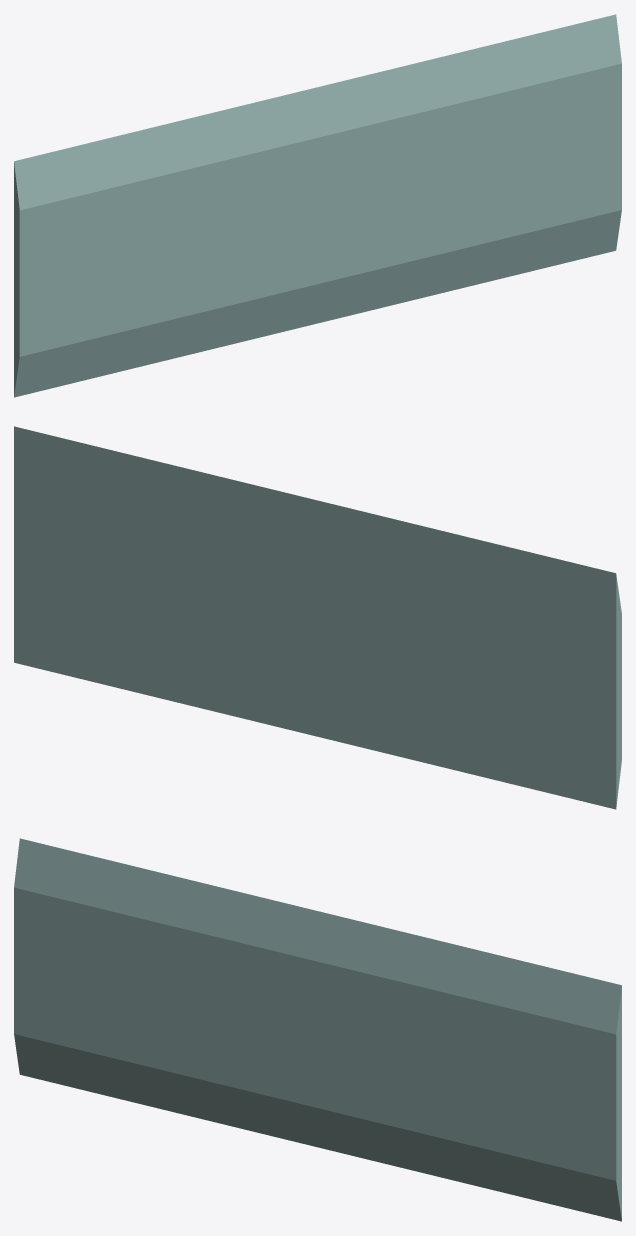
File: BTrimCorner.fbx
3 renders of one model, top to bottom at view 1: azimuth 30°, elevation 25°; view 2: azimuth 150°, elevation 25°; view 3: azimuth 330°, elevation 25°, orthographic.
Parts seen in each view (by area): view 1: BTrimCorner; view 2: BTrimCorner; view 3: BTrimCorner.
Boxes of the visible parts, bbox=[...] form: BTrimCorner: bbox=[14, 14, 621, 397]; BTrimCorner: bbox=[14, 426, 621, 809]; BTrimCorner: bbox=[14, 838, 621, 1221].
Bounding box in the file's own units: 400 × 150 × 6.67.
